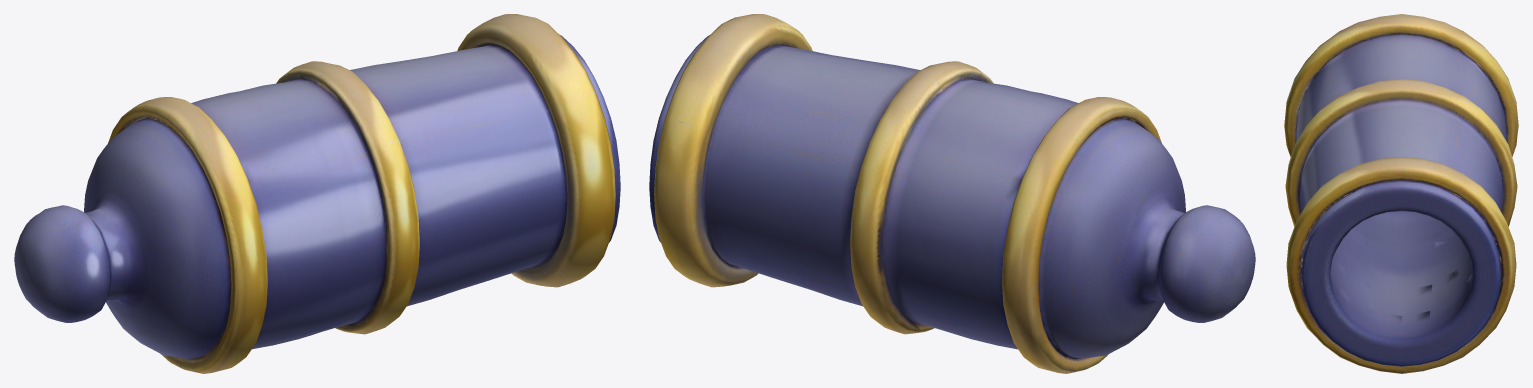
File: cannon-barrel.glb
3 renders of one model, left to right at view 1: azimuth 30°, elevation 25°; view 2: azimuth 150°, elevation 25°; view 3: azimuth 270°, elevation 25°, orthographic. The views are drawn at different scales.
Parts seen in each view (by area): view 1: tripo_node_3b764b5a-dbab-4489-a224-a8dc924759ba; view 2: tripo_node_3b764b5a-dbab-4489-a224-a8dc924759ba; view 3: tripo_node_3b764b5a-dbab-4489-a224-a8dc924759ba.
Boxes of the visible parts, <box> form: tripo_node_3b764b5a-dbab-4489-a224-a8dc924759ba: <box>14,14,620,373</box>; tripo_node_3b764b5a-dbab-4489-a224-a8dc924759ba: <box>649,14,1255,373</box>; tripo_node_3b764b5a-dbab-4489-a224-a8dc924759ba: <box>1284,14,1518,373</box>.
Size of the model in its own units: 0.998 by 0.4551 by 0.4512.
Materials: 1 (1 with a texture image).
